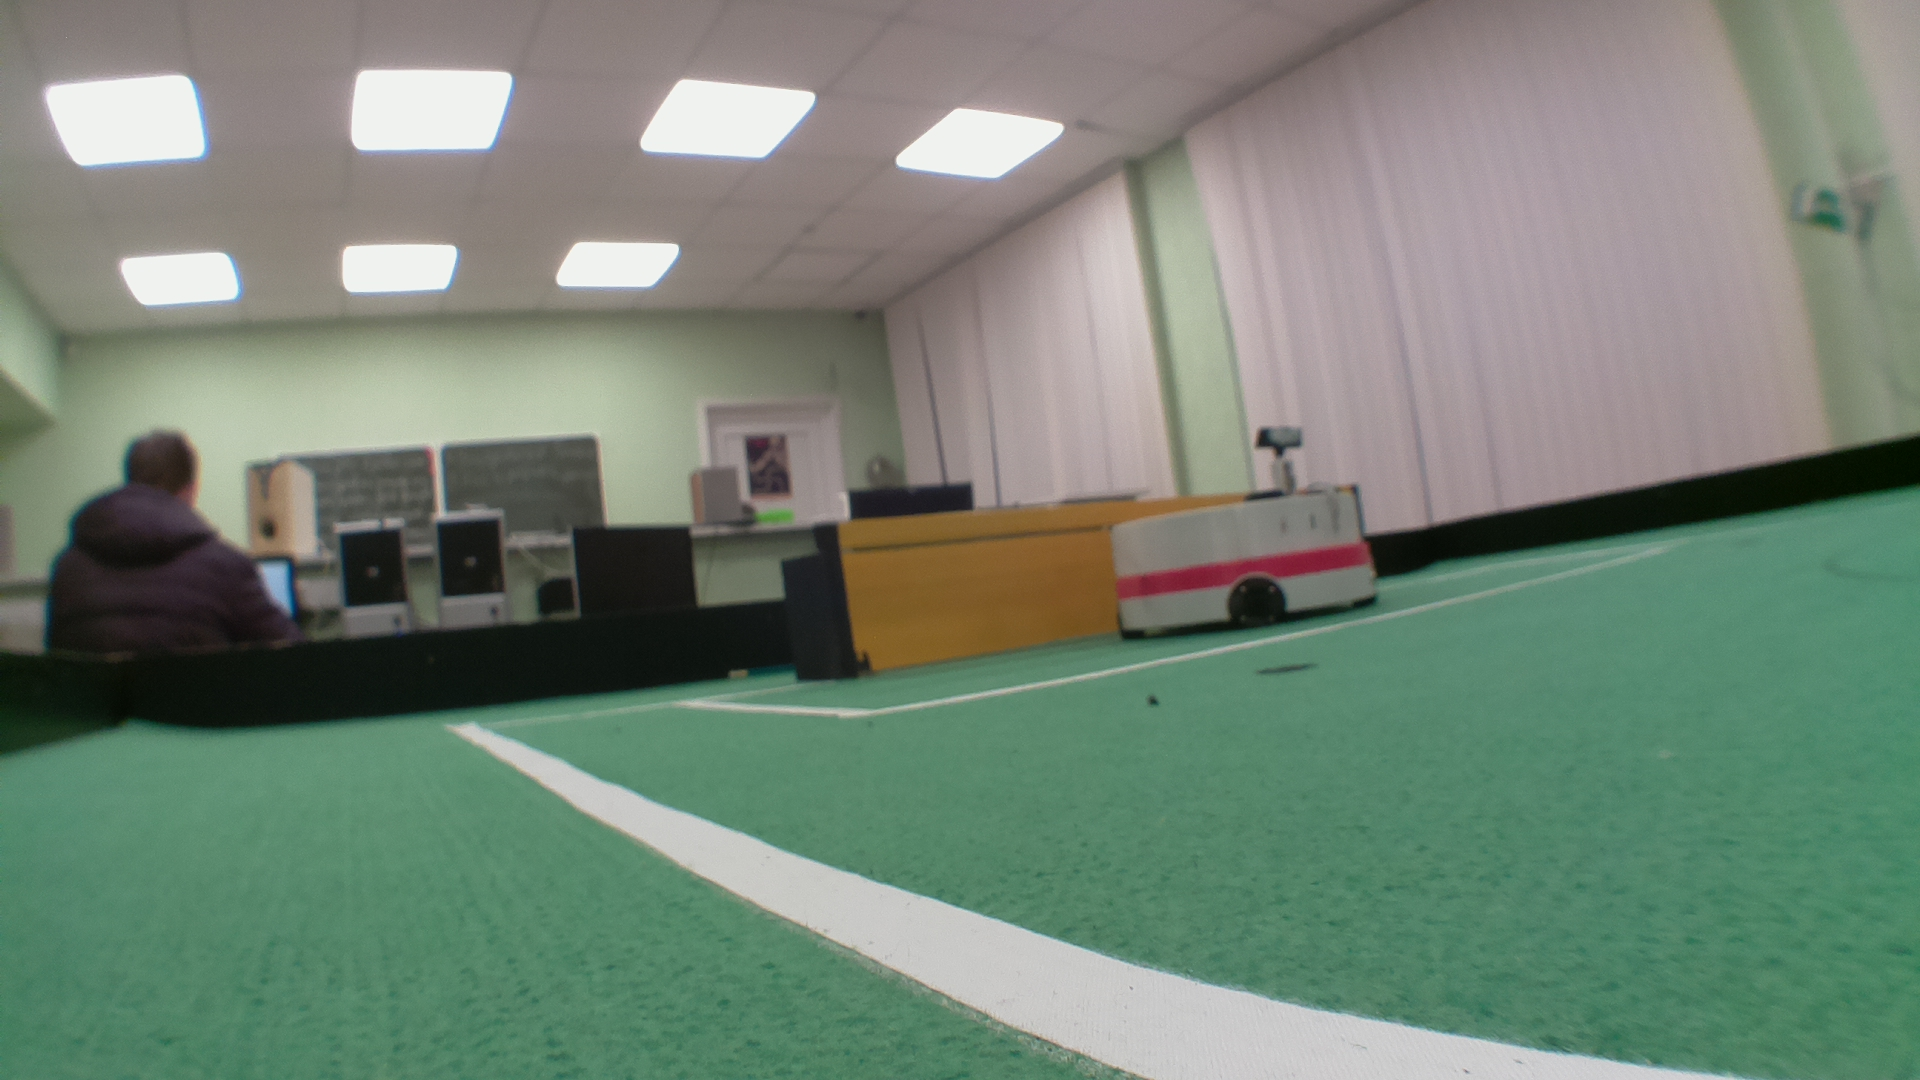YellowGoal: (835, 498, 1193, 665)
